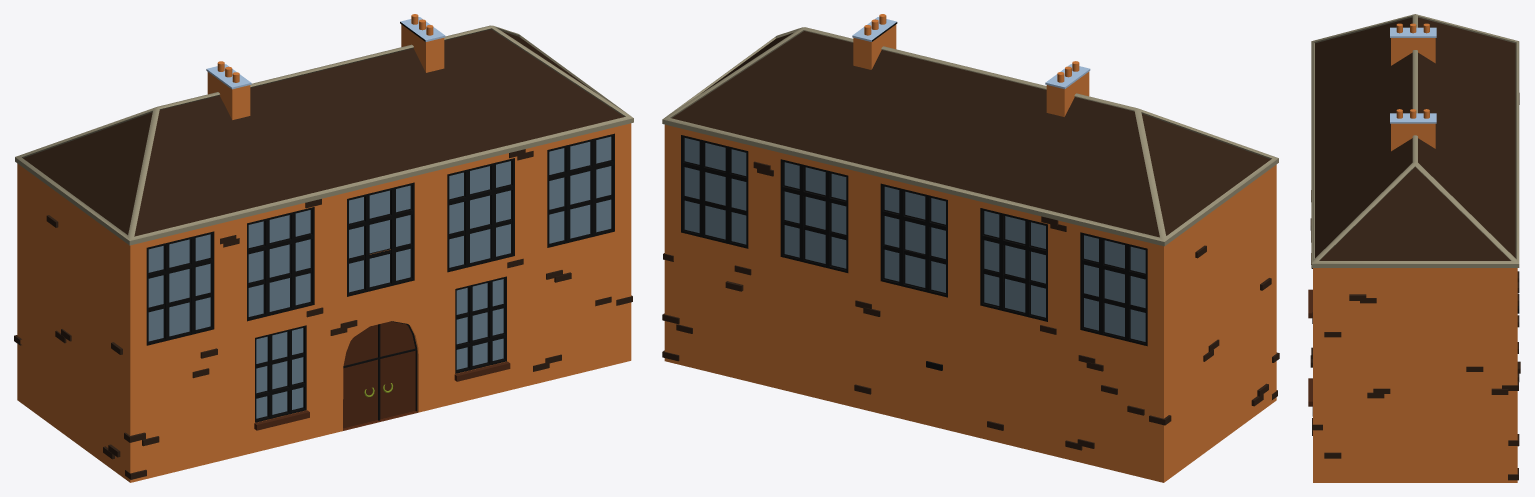
Rendered from School_Export.FBX.
3 views of the same model, side by side, from view 1: azimuth 30°, elevation 25°; view 2: azimuth 150°, elevation 25°; view 3: azimuth 270°, elevation 25° (orthographic). The views are drawn at different scales.
Visible parts, largest first — view 1: School; view 2: School; view 3: School.
Boxes of the visible parts, x1,y1,x2,y2 form: School: (14,14,633,482); School: (662,14,1279,482); School: (1308,14,1520,482).
Size of the model in its own units: 1328 by 532 by 843.
